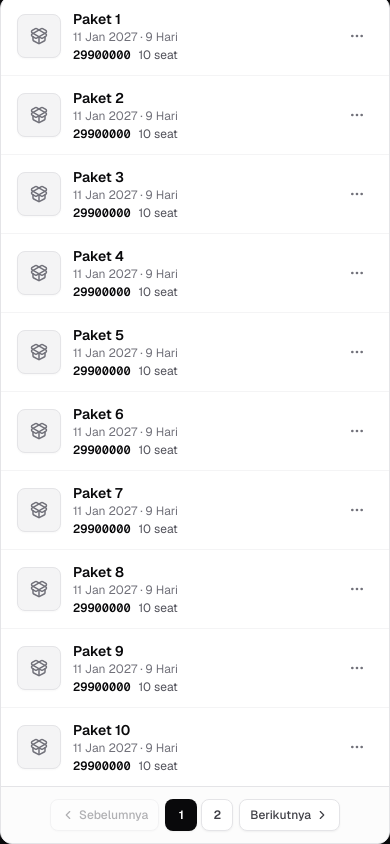
Daftar paket: halaman tetap setelah kembali › pindah halaman dicatat di URL dan di alamat kembali detail/edit paket
(page scrolled)
Expected: the text "Paket 1" is shown, [73, 10, 121, 28]
What coordinates should you click on to do the following:
click the button "Berikutnya"
I would click on:
 (290, 815)
Its box is [239, 799, 340, 831].
(page scrolled)
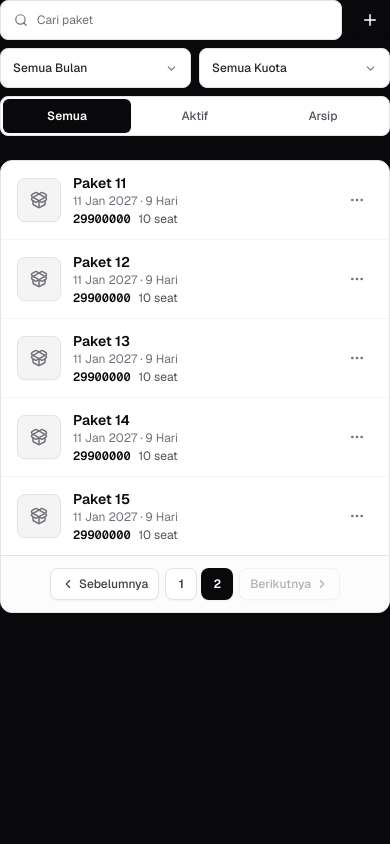
Expected: the text "Paket 11" is shown, [73, 174, 126, 192]
